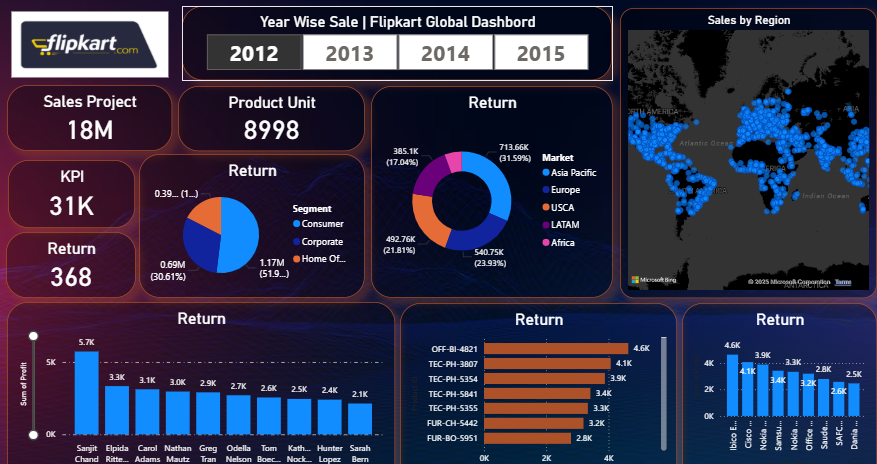

Layout of this report page (visuals, bound fields, positions):
{"tool":"powerbi","page":{"name":"Page 1","canvas":[1280,720],"ordinal":0},"visuals":[{"type":"card","title":"Sales Project","fields":{"Values":["Orders.Year"]},"box":[13.4,126.9,237.3,95.5],"z":0},{"type":"slicer","title":"Year Wise Sale | Amazon Global Dashbord","fields":{"Values":["Orders.Year"]},"box":[265.7,13.4,619.4,107.5],"z":1000},{"type":"card","title":"Product Unit","fields":{"Values":["Orders.Product Name"]},"box":[259.7,128.4,228.4,95.5],"z":2000},{"type":"card","title":"KPI","fields":{"Values":["Orders.Quantity"]},"box":[497,128.4,192.5,95.5],"z":3000},{"type":"card","title":"Return","fields":{"Values":["Orders.Ship Date"]},"box":[698.5,126.9,186.6,95.5],"z":4000},{"type":"pieChart","title":"Return","fields":{"Category":["Orders.Segment"],"Y":["Orders.Sales"]},"box":[17.9,234.3,429.9,198.5],"z":5000},{"type":"donutChart","title":"Return","fields":{"Category":["Orders.Market"],"Y":["Orders.Sales"]},"box":[459.7,234.3,425.4,198.5],"z":6000},{"type":"map","title":"Sales by Region","fields":{"Category":["Orders.City"]},"box":[897,16.4,368.7,416.4],"z":7000},{"type":"columnChart","title":"Return","fields":{"Category":["Orders.Customer Name"],"Y":["Orders.Profit"]},"box":[17.9,440.3,558.2,261.2],"z":8000},{"type":"clusteredBarChart","title":"Return","fields":{"Category":["Orders.Product ID"],"Y":["Orders.Profit"]},"box":[586.6,440.3,388.1,261.2],"z":9000},{"type":"clusteredBarChart","title":"Return","fields":{"Category":["Orders.Product Name"],"Y":["Orders.Profit"]},"box":[985.1,440.3,280.6,261.2],"z":9001},{"type":"image","box":[17.9,16.4,232.8,104.5],"z":9002}]}

Visuals, with their boxes on the page's 1280x720 design canvas (x1, y1, x2, y2). These are canvas units, not pixel positions in the 877x464 screenshot, which may show the page scaled, cropped or inside an application window:
"Sales Project" card: rect(13, 127, 251, 222)
"Year Wise Sale | Amazon Global Dashbord" slicer: rect(266, 13, 885, 121)
"Product Unit" card: rect(260, 128, 488, 224)
"KPI" card: rect(497, 128, 690, 224)
"Return" card: rect(698, 127, 885, 222)
"Return" pieChart: rect(18, 234, 448, 433)
"Return" donutChart: rect(460, 234, 885, 433)
"Sales by Region" map: rect(897, 16, 1266, 433)
"Return" columnChart: rect(18, 440, 576, 702)
"Return" clusteredBarChart: rect(587, 440, 975, 702)
"Return" clusteredBarChart: rect(985, 440, 1266, 702)
image: rect(18, 16, 251, 121)
